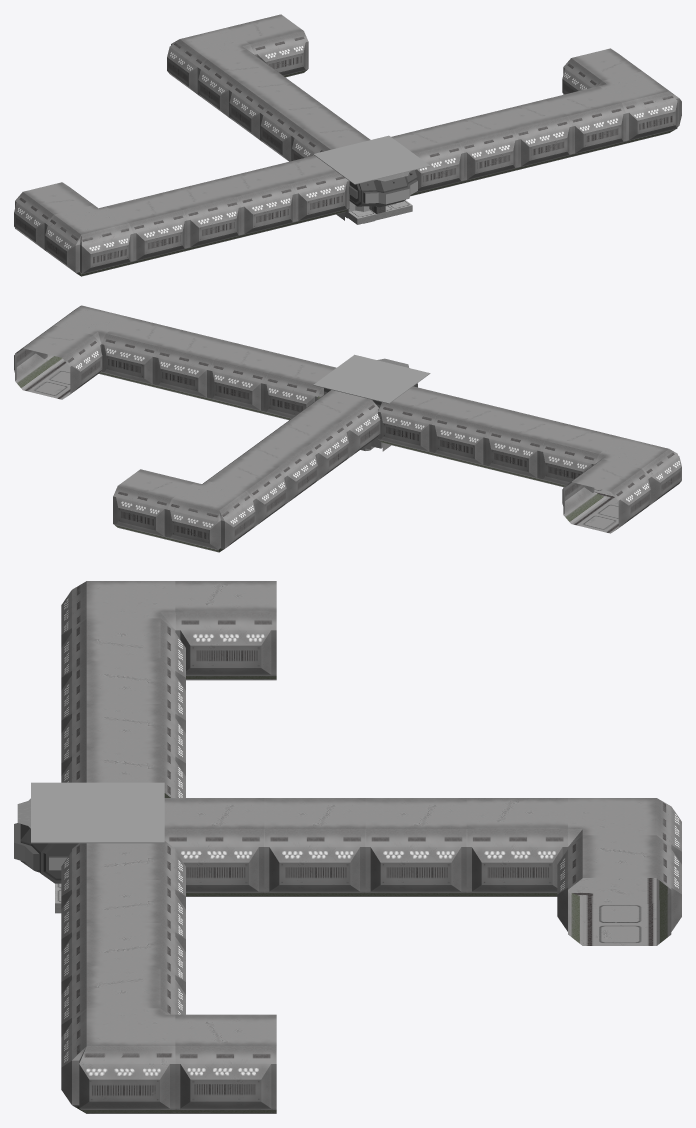
File: fullMap_03.fbx
3 renders of one model, top to bottom at view 1: azimuth 30°, elevation 25°; view 2: azimuth 150°, elevation 25°; view 3: azimuth 270°, elevation 25°, orthographic. The views are drawn at different scales.
Parts seen in each view (by area): view 1: hallwayPanel_04 (×3), hallwayPanel_03 (×3), hallwayPanel_02 (×3), hallwayPanel_01 (×3), ceiling, cabinWallFrame, floor, cabinWallWindow; view 2: hallwayPanel_04 (×3), hallwayPanel_03 (×3), hallwayPanel_02 (×3), hallwayPanel_01 (×3), ceiling; view 3: hallwayPanel_04 (×3), hallwayPanel_02 (×3), hallwayPanel_03 (×3), hallwayPanel_01 (×3), ceiling, cabinWallFrame.
Part boxes in pixels (x1,y1,x2,y2): hallwayPanel_04 (×3): (14,14,681,276); hallwayPanel_03 (×3): (160,72,572,251); hallwayPanel_02 (×3): (214,95,518,238); hallwayPanel_01 (×3): (268,118,463,225); ceiling: (313,135,429,184); cabinWallFrame: (348,170,417,211); floor: (348,200,412,224); cabinWallWindow: (349,181,417,204); hallwayPanel_04 (×3): (14,305,681,552); hallwayPanel_03 (×3): (155,330,567,503); hallwayPanel_02 (×3): (209,343,513,480); hallwayPanel_01 (×3): (263,356,458,458); ceiling: (313,354,430,403); hallwayPanel_04 (×3): (61,581,681,1113); hallwayPanel_02 (×3): (61,704,365,951); hallwayPanel_03 (×3): (61,661,466,994); hallwayPanel_01 (×3): (61,746,264,908); ceiling: (31,782,164,843); cabinWallFrame: (14,798,78,883).
Size of the model in its own units: 426 by 42.77 by 247.
